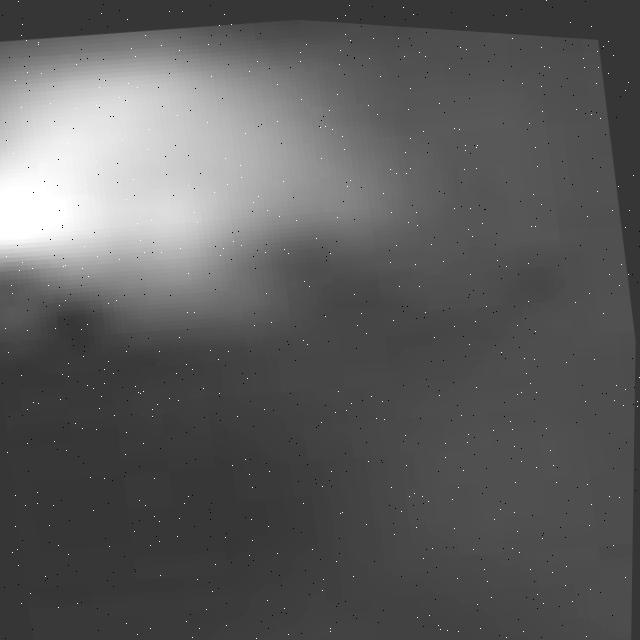person: (1, 2, 387, 321)
